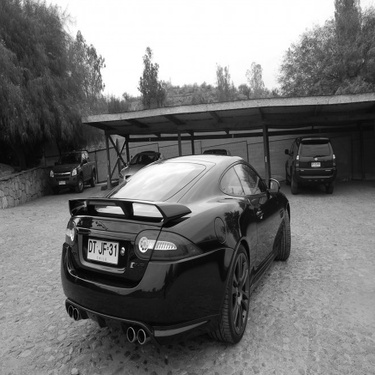car: (47, 152, 298, 351), (272, 133, 347, 193), (30, 142, 93, 190), (109, 145, 166, 175), (191, 142, 240, 159)
